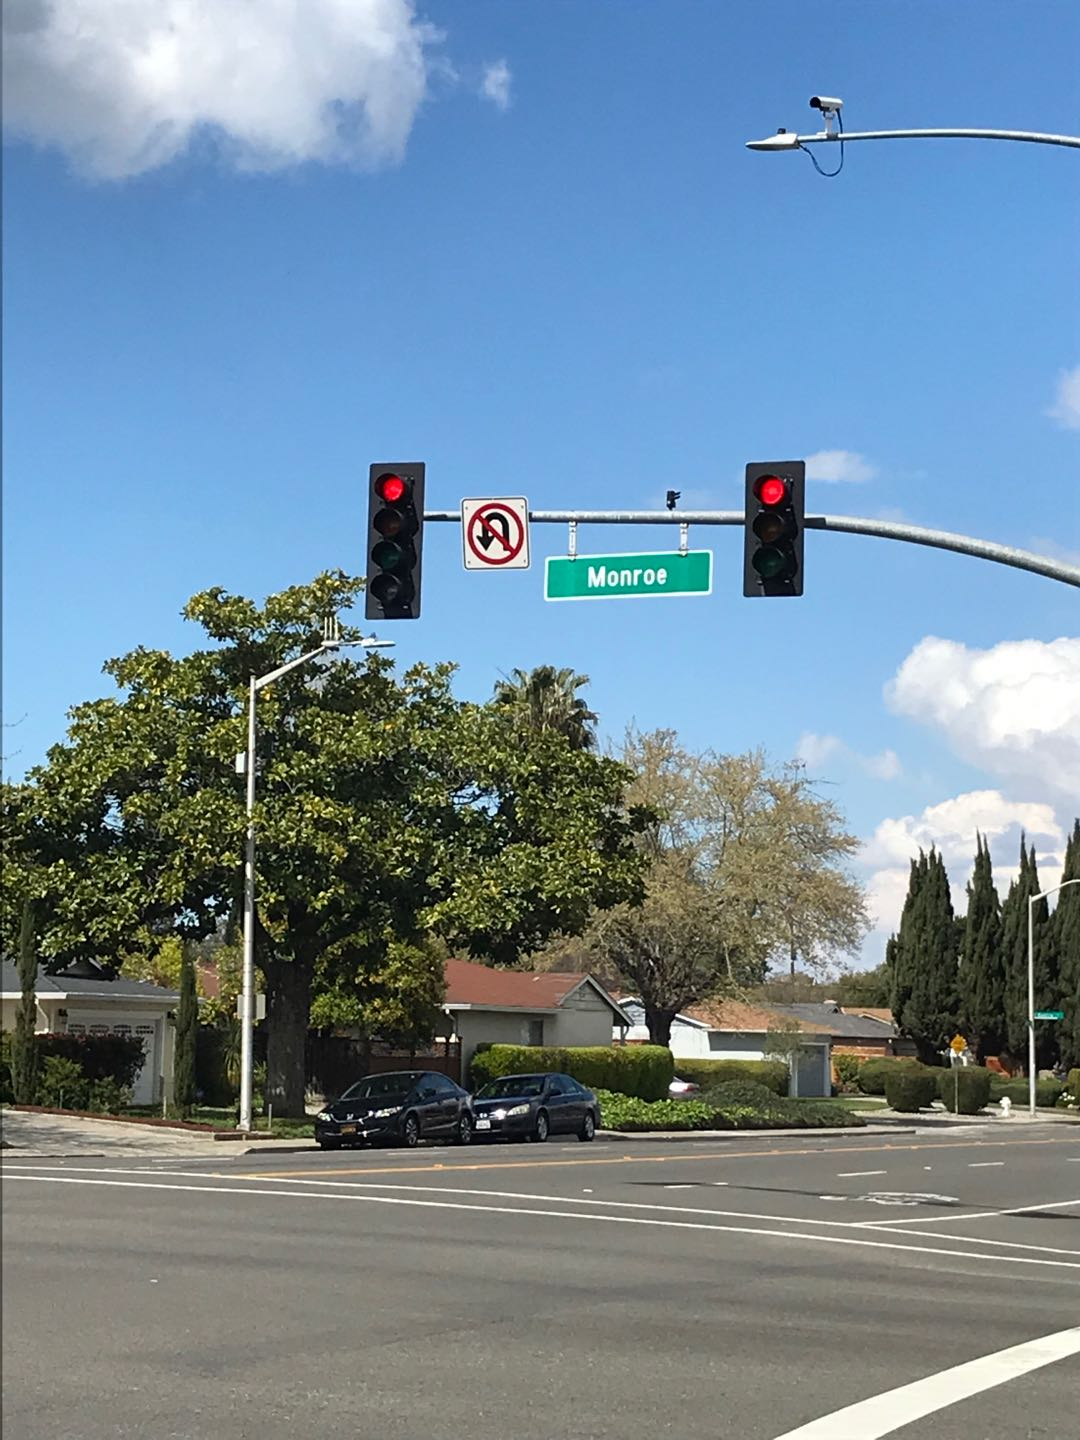red_light: (368, 461, 419, 619), (749, 463, 798, 596)
